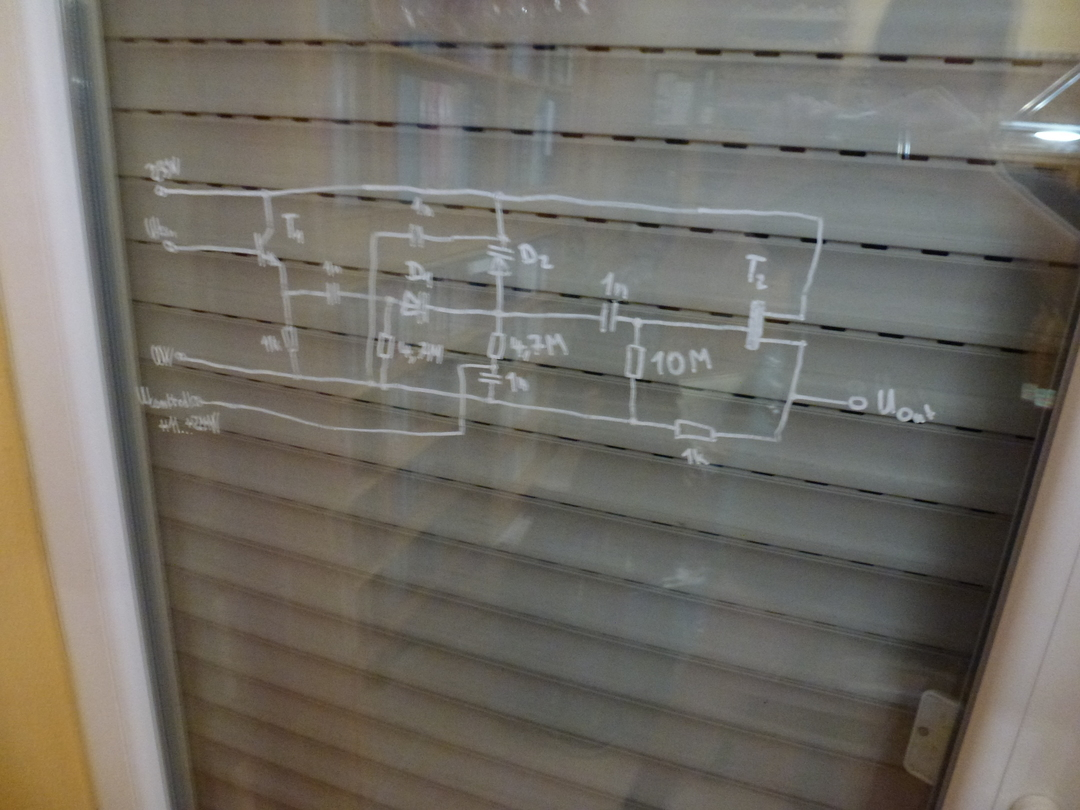capacitor.unpolarized: (404, 221, 431, 250), (598, 301, 620, 335), (322, 280, 344, 307), (477, 370, 503, 388)
crossover: (364, 291, 381, 304), (456, 390, 471, 402)
diode: (400, 290, 432, 325), (485, 243, 515, 280)
junction: (625, 415, 641, 428), (490, 189, 505, 202), (492, 307, 507, 320), (630, 315, 643, 329), (259, 187, 273, 200), (496, 231, 511, 243), (785, 390, 798, 403), (367, 230, 381, 242), (290, 370, 303, 382), (384, 293, 396, 306), (278, 288, 292, 298), (485, 394, 496, 406), (815, 214, 826, 225), (378, 381, 389, 391), (770, 434, 781, 444), (365, 379, 375, 388), (488, 362, 499, 370), (455, 362, 465, 370), (456, 428, 466, 436)
resistor: (672, 416, 721, 445), (623, 342, 648, 382), (485, 330, 508, 361), (281, 325, 301, 355), (376, 331, 395, 360)
terminal: (847, 394, 869, 411), (162, 239, 181, 256), (153, 184, 169, 198), (191, 395, 205, 408), (174, 350, 187, 362)
text: (875, 387, 936, 424), (649, 346, 714, 377), (509, 332, 570, 361), (156, 411, 221, 435), (134, 384, 191, 409), (396, 339, 444, 367), (516, 242, 556, 271), (144, 155, 183, 183), (744, 252, 770, 291), (598, 271, 630, 300), (404, 259, 434, 289), (143, 214, 179, 239), (280, 211, 306, 244), (504, 370, 531, 394), (681, 446, 711, 467), (410, 196, 435, 219), (149, 344, 173, 367), (259, 334, 281, 354), (321, 259, 344, 278)
transistor: (743, 298, 809, 352), (252, 226, 286, 271)
